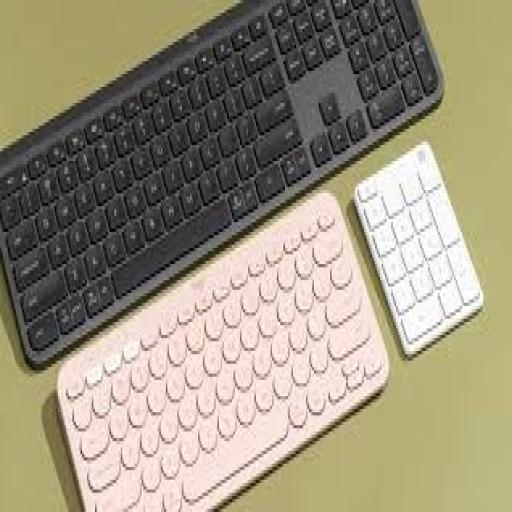KEYBOARD-2: (2, 0, 440, 364), (58, 193, 386, 509)
